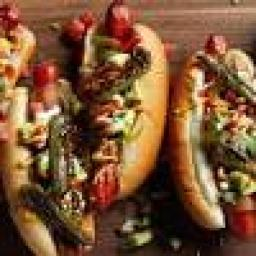hotdog: (64, 0, 170, 208), (0, 48, 92, 256), (172, 26, 256, 238)
